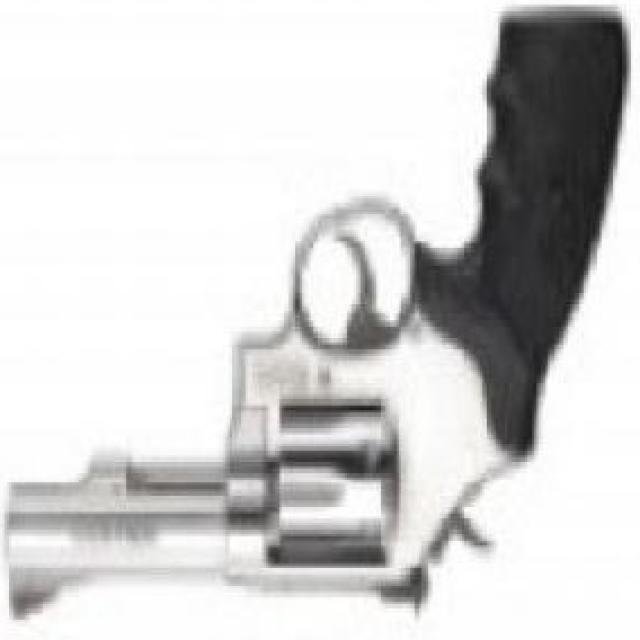pistol: (12, 12, 638, 620)
